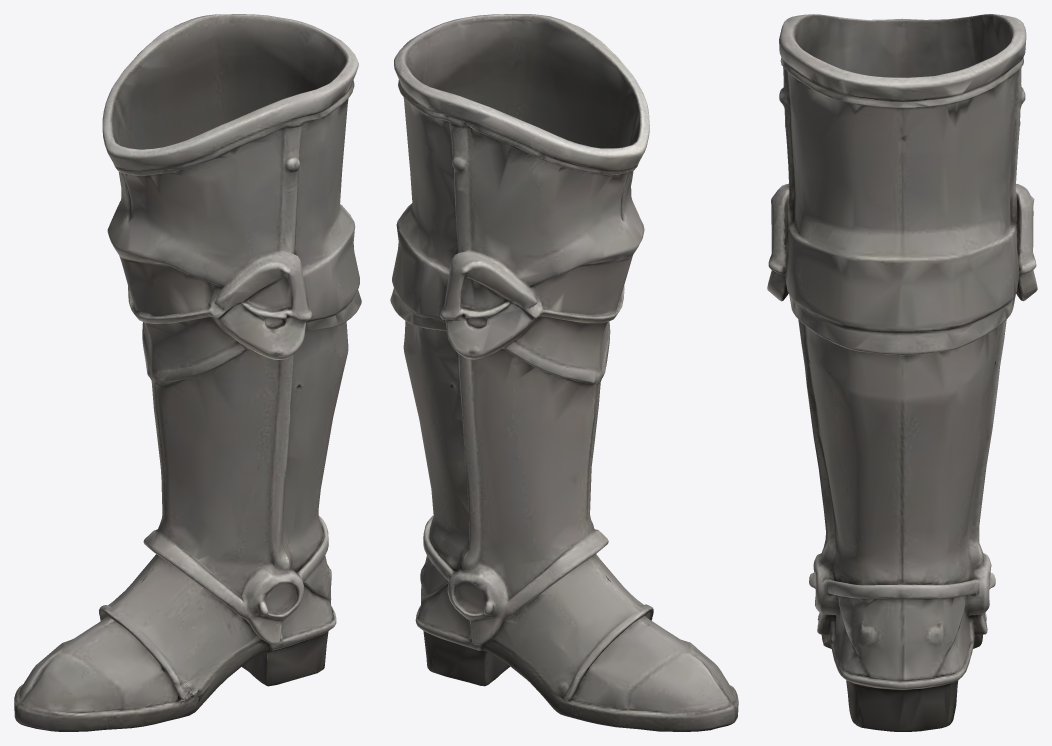
File: comum-greva.glb
3 views of the same model, side by side, from view 1: azimuth 30°, elevation 25°; view 2: azimuth 150°, elevation 25°; view 3: azimuth 270°, elevation 25° (orthographic). The views are drawn at different scales.
Visible parts, largest first — view 1: tripo_node_4778d38c-6096-4005-8d01-892efde5c8be; view 2: tripo_node_4778d38c-6096-4005-8d01-892efde5c8be; view 3: tripo_node_4778d38c-6096-4005-8d01-892efde5c8be.
Part boxes in pixels (x1=…): tripo_node_4778d38c-6096-4005-8d01-892efde5c8be: x1=14, y1=14, x2=361, y2=731; tripo_node_4778d38c-6096-4005-8d01-892efde5c8be: x1=390, y1=14, x2=738, y2=731; tripo_node_4778d38c-6096-4005-8d01-892efde5c8be: x1=767, y1=14, x2=1037, y2=731.
Bounding box in the file's own units: 0.5534 × 0.9781 × 0.3581.
Materials: 1 (1 with a texture image).
